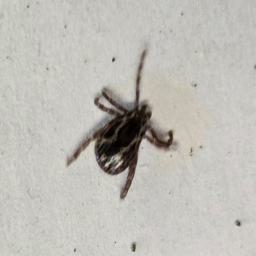Dermacentor variabilis: (131, 40, 224, 182)
